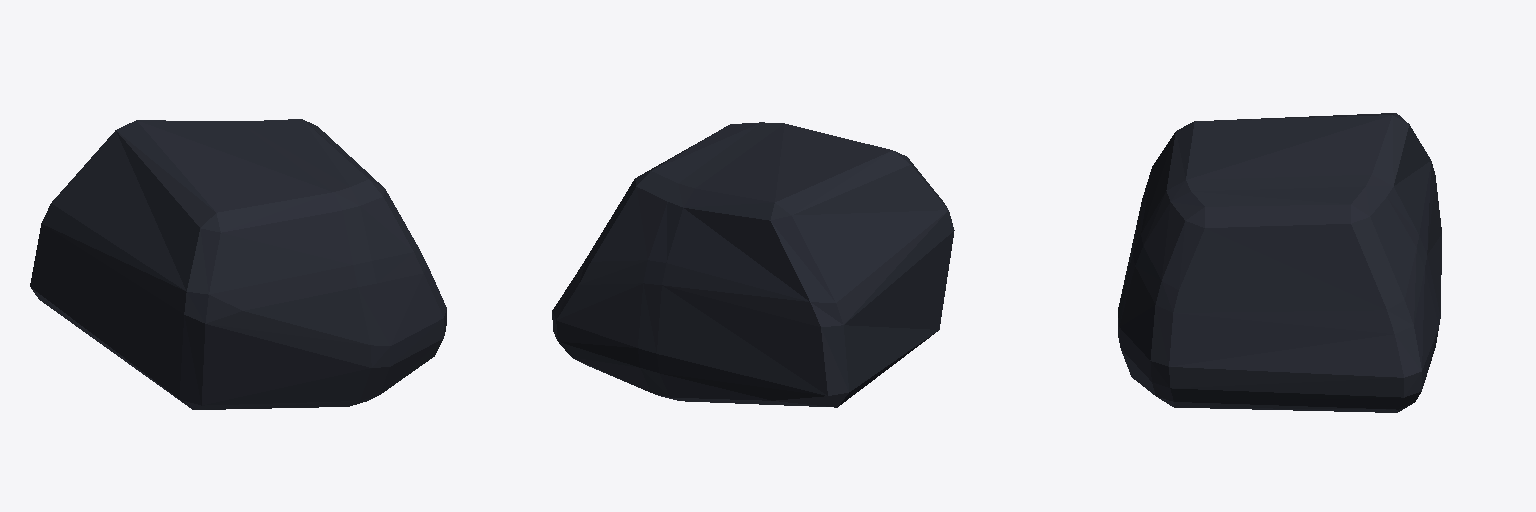
Rendered from Rock_1.obj.
3 renders of one model, left to right at view 1: azimuth 30°, elevation 25°; view 2: azimuth 150°, elevation 25°; view 3: azimuth 270°, elevation 25°, orthographic.
Visible parts, largest first — view 1: Rock_1_Cube.420; view 2: Rock_1_Cube.420; view 3: Rock_1_Cube.420.
Part boxes in pixels (bbox=[...]): Rock_1_Cube.420: bbox=[30, 119, 446, 409]; Rock_1_Cube.420: bbox=[552, 122, 954, 407]; Rock_1_Cube.420: bbox=[1118, 113, 1441, 412].
Bounding box in the file's own units: 1.6 × 1.1 × 1.46.